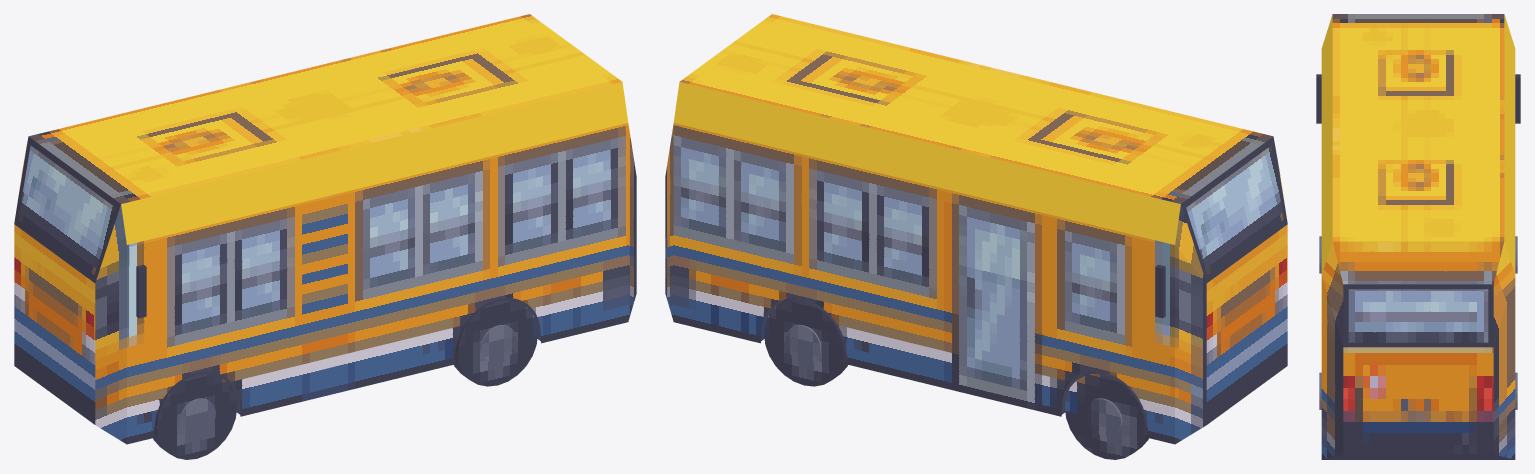
File: bus-1-v1.glb
The picture shows the model from 3 angles, left to right: view 1: azimuth 30°, elevation 25°; view 2: azimuth 150°, elevation 25°; view 3: azimuth 270°, elevation 25°; orthographic projection. The views are drawn at different scales.
Visible parts, largest first — view 1: Bus-body-west, Roof, Roof-shoulder-west, Front-fascia, Windshield-glass, Front-corner-west, Tire_FL, Tire_RL, Windshield-frame, Rear-corner-west, Hub_FL, Hub_RL (+1 smaller); view 2: Bus-body-east, Roof, Roof-shoulder-east, Front-fascia, Windshield-glass, Front-corner-east, Tire_FR, Tire_RR, Windshield-frame, Rear-corner-east, Hub_FR, Hub_RR (+1 smaller); view 3: Roof, Rear-fascia, Rear-window-glass, Rear-roof-edge, Rear-corner-east, Rear-corner-west, Roof-shoulder-east, Roof-shoulder-west, Rear-window-frame, Rear-roof-corner-east, Rear-roof-corner-west, Underfloor-rear-bevel (+2 smaller).
Boxes of the visible parts, <box> form: Bus-body-west: <box>127,123,628,444</box>; Roof: <box>29,14,621,203</box>; Roof-shoulder-west: <box>121,82,628,244</box>; Front-fascia: <box>14,224,95,424</box>; Windshield-glass: <box>18,145,115,274</box>; Front-corner-west: <box>95,245,126,444</box>; Tire_FL: <box>153,371,236,459</box>; Tire_RL: <box>454,298,537,386</box>; Windshield-frame: <box>14,136,120,282</box>; Rear-corner-west: <box>628,124,636,321</box>; Hub_FL: <box>179,398,215,436</box>; Hub_RL: <box>480,324,516,363</box>; Bus-body-east: <box>673,123,1174,444</box>; Roof: <box>680,14,1272,203</box>; Roof-shoulder-east: <box>673,82,1180,244</box>; Front-fascia: <box>1206,224,1287,424</box>; Windshield-glass: <box>1186,145,1283,274</box>; Front-corner-east: <box>1175,245,1206,444</box>; Tire_FR: <box>1065,371,1148,459</box>; Tire_RR: <box>764,298,847,386</box>; Windshield-frame: <box>1181,136,1287,282</box>; Rear-corner-east: <box>665,124,673,321</box>; Hub_FR: <box>1086,398,1122,436</box>; Hub_RR: <box>785,324,821,363</box>; Roof: <box>1332,14,1504,240</box>; Rear-fascia: <box>1343,347,1493,454</box>; Rear-window-glass: <box>1348,289,1488,342</box>; Rear-roof-edge: <box>1332,241,1504,284</box>; Rear-corner-east: <box>1493,275,1515,459</box>; Rear-corner-west: <box>1321,275,1343,459</box>; Roof-shoulder-east: <box>1504,14,1515,274</box>; Roof-shoulder-west: <box>1321,14,1332,274</box>; Rear-window-frame: <box>1343,284,1493,347</box>; Rear-roof-corner-east: <box>1493,241,1514,346</box>; Rear-roof-corner-west: <box>1322,241,1343,346</box>; Underfloor-rear-bevel: <box>1322,454,1514,459</box>.
Size of the model in its own units: 108 by 51 by 38.
1 material, 1 textured.
